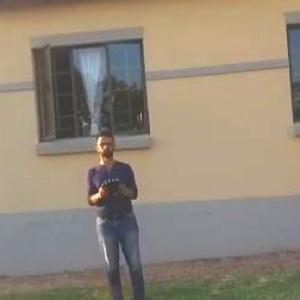follow: (86, 125, 157, 299)
